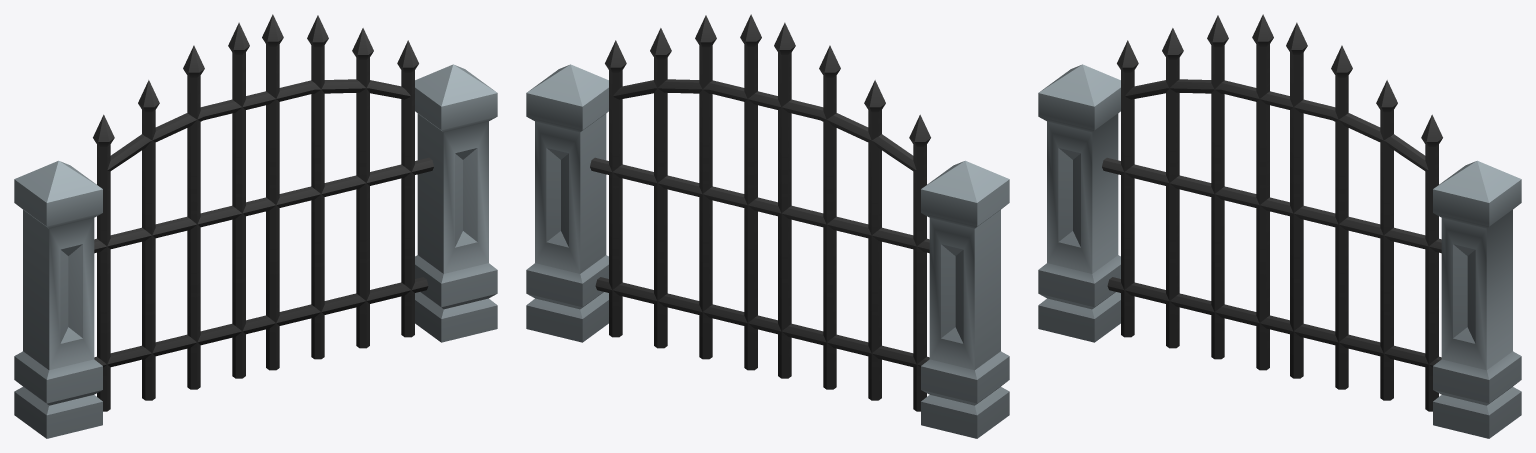
The model's file is Fence Gate.glb.
3 renders of one model, left to right at view 1: azimuth 30°, elevation 25°; view 2: azimuth 150°, elevation 25°; view 3: azimuth 330°, elevation 25°, orthographic.
Visible parts, largest first — view 1: fence_gate, fence_gate_left, fence_gate_right; view 2: fence_gate, fence_gate_left, fence_gate_right; view 3: fence_gate, fence_gate_right, fence_gate_left.
Part boxes in pixels (<box>): fence_gate: <box>14,64,497,438</box>; fence_gate_left: <box>254,14,433,370</box>; fence_gate_right: <box>93,22,259,411</box>; fence_gate: <box>526,64,1009,438</box>; fence_gate_left: <box>590,14,769,370</box>; fence_gate_right: <box>764,22,930,411</box>; fence_gate: <box>1038,64,1521,438</box>; fence_gate_right: <box>1102,14,1281,370</box>; fence_gate_left: <box>1276,22,1442,411</box>.
Bounding box in the file's own units: 4 × 3 × 0.5.
Materials: 1 (1 with a texture image).
